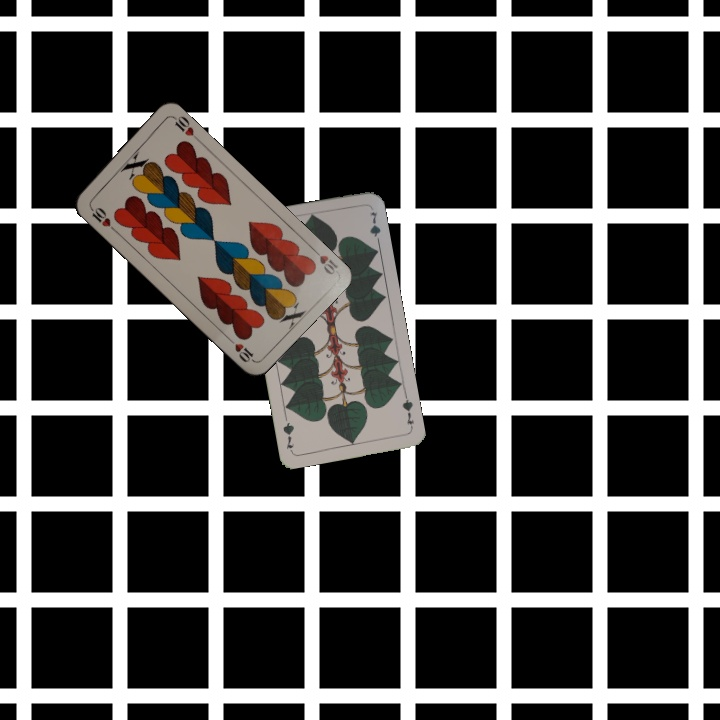G7: (398, 391, 417, 431)
H10: (307, 243, 340, 277), (85, 202, 118, 234)
